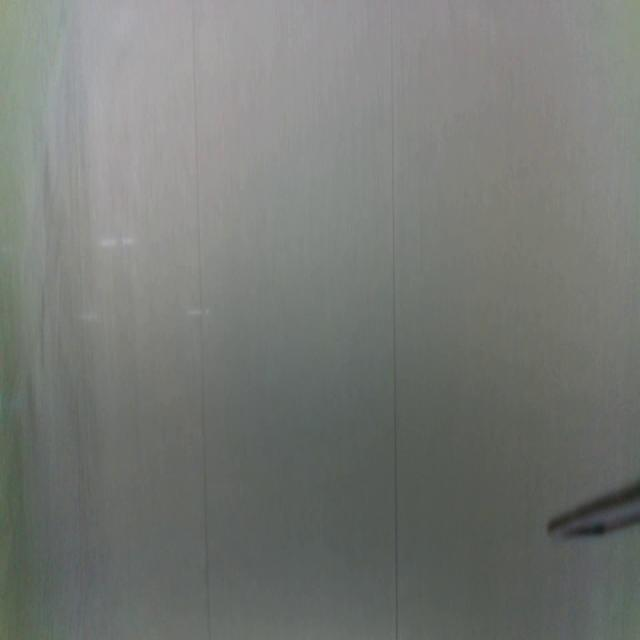crease: (192, 0, 212, 640), (389, 3, 400, 640)
